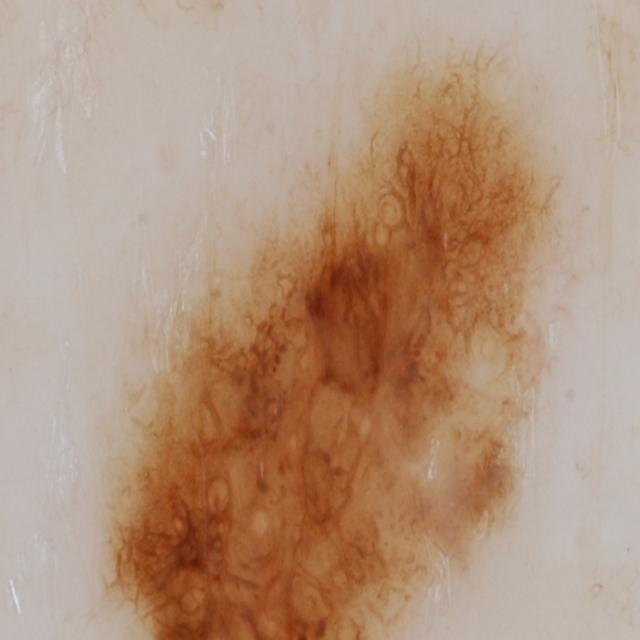Melanoma: (52, 50, 615, 640)
